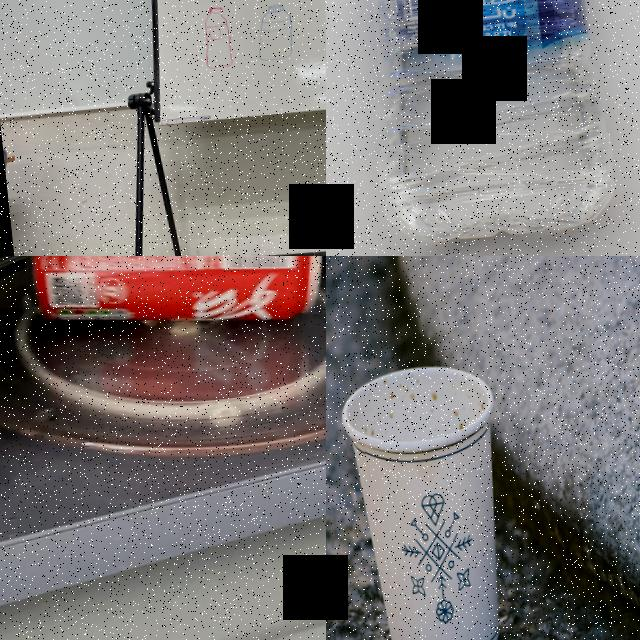bottle: (331, 0, 621, 248)
can: (23, 256, 326, 346)
cup: (335, 356, 522, 640)
